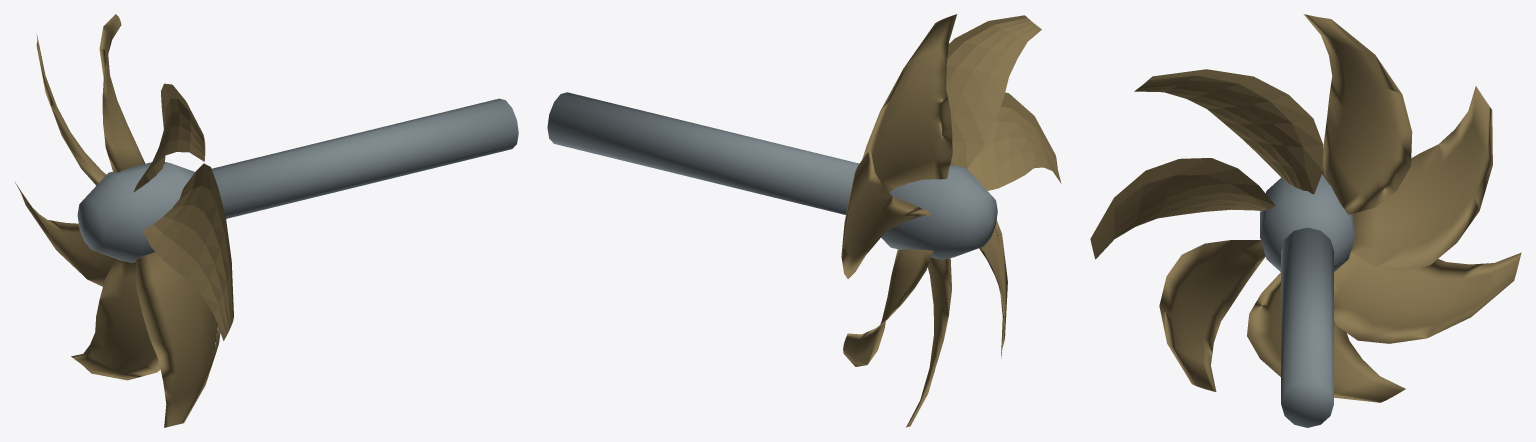
Rendered from PROP_T05_QUIET_LOD2.fbx.
3 renders of one model, left to right at view 1: azimuth 30°, elevation 25°; view 2: azimuth 150°, elevation 25°; view 3: azimuth 270°, elevation 25°, orthographic. The views are drawn at different scales.
Visible parts, largest first — view 1: PROP_T05_QUIET_LOD2_Shaft.001, PROP_T05_QUIET_LOD2_Blade_04.001, PROP_T05_QUIET_LOD2_Blade_03.001, PROP_T05_QUIET_LOD2_Hub.001, PROP_T05_QUIET_LOD2_Blade_05.001, PROP_T05_QUIET_LOD2_Blade_01.001, PROP_T05_QUIET_LOD2_Blade_02.001, PROP_T05_QUIET_LOD2_Blade_06.001, PROP_T05_QUIET_LOD2_Blade_00.001; view 2: PROP_T05_QUIET_LOD2_Shaft.001, PROP_T05_QUIET_LOD2_Blade_01.001, PROP_T05_QUIET_LOD2_Blade_02.001, PROP_T05_QUIET_LOD2_Hub.001, PROP_T05_QUIET_LOD2_Blade_03.001, PROP_T05_QUIET_LOD2_Blade_00.001, PROP_T05_QUIET_LOD2_Blade_06.001, PROP_T05_QUIET_LOD2_Blade_05.001, PROP_T05_QUIET_LOD2_Blade_04.001; view 3: PROP_T05_QUIET_LOD2_Blade_00.001, PROP_T05_QUIET_LOD2_Blade_01.001, PROP_T05_QUIET_LOD2_Blade_06.001, PROP_T05_QUIET_LOD2_Shaft.001, PROP_T05_QUIET_LOD2_Blade_02.001, PROP_T05_QUIET_LOD2_Blade_04.001, PROP_T05_QUIET_LOD2_Blade_03.001, PROP_T05_QUIET_LOD2_Hub.001, PROP_T05_QUIET_LOD2_Blade_05.001.
Boxes of the visible parts, x1=… form: PROP_T05_QUIET_LOD2_Shaft.001: x1=212, y1=98, x2=518, y2=218; PROP_T05_QUIET_LOD2_Blade_04.001: x1=136, y1=252, x2=220, y2=427; PROP_T05_QUIET_LOD2_Blade_03.001: x1=143, y1=163, x2=233, y2=340; PROP_T05_QUIET_LOD2_Hub.001: x1=77, y1=162, x2=194, y2=262; PROP_T05_QUIET_LOD2_Blade_05.001: x1=71, y1=259, x2=160, y2=380; PROP_T05_QUIET_LOD2_Blade_01.001: x1=99, y1=14, x2=145, y2=172; PROP_T05_QUIET_LOD2_Blade_02.001: x1=133, y1=83, x2=205, y2=192; PROP_T05_QUIET_LOD2_Blade_06.001: x1=15, y1=182, x2=115, y2=286; PROP_T05_QUIET_LOD2_Blade_00.001: x1=36, y1=34, x2=106, y2=185; PROP_T05_QUIET_LOD2_Shaft.001: x1=547, y1=92, x2=859, y2=214; PROP_T05_QUIET_LOD2_Blade_01.001: x1=862, y1=14, x2=956, y2=192; PROP_T05_QUIET_LOD2_Blade_02.001: x1=946, y1=15, x2=1041, y2=168; PROP_T05_QUIET_LOD2_Hub.001: x1=881, y1=165, x2=997, y2=259; PROP_T05_QUIET_LOD2_Blade_03.001: x1=967, y1=92, x2=1061, y2=190; PROP_T05_QUIET_LOD2_Blade_00.001: x1=841, y1=149, x2=931, y2=278; PROP_T05_QUIET_LOD2_Blade_06.001: x1=843, y1=249, x2=933, y2=366; PROP_T05_QUIET_LOD2_Blade_05.001: x1=906, y1=257, x2=951, y2=427; PROP_T05_QUIET_LOD2_Blade_04.001: x1=979, y1=220, x2=1007, y2=358; PROP_T05_QUIET_LOD2_Blade_00.001: x1=1351, y1=86, x2=1492, y2=271; PROP_T05_QUIET_LOD2_Blade_01.001: x1=1303, y1=14, x2=1412, y2=214; PROP_T05_QUIET_LOD2_Blade_06.001: x1=1334, y1=251, x2=1521, y2=343; PROP_T05_QUIET_LOD2_Shaft.001: x1=1281, y1=227, x2=1333, y2=427; PROP_T05_QUIET_LOD2_Blade_02.001: x1=1134, y1=69, x2=1323, y2=194; PROP_T05_QUIET_LOD2_Blade_04.001: x1=1159, y1=240, x2=1265, y2=391; PROP_T05_QUIET_LOD2_Blade_03.001: x1=1090, y1=158, x2=1275, y2=259; PROP_T05_QUIET_LOD2_Hub.001: x1=1260, y1=174, x2=1354, y2=271; PROP_T05_QUIET_LOD2_Blade_05.001: x1=1247, y1=272, x2=1405, y2=402.
Size of the model in its own units: 523 by 455 by 448.
